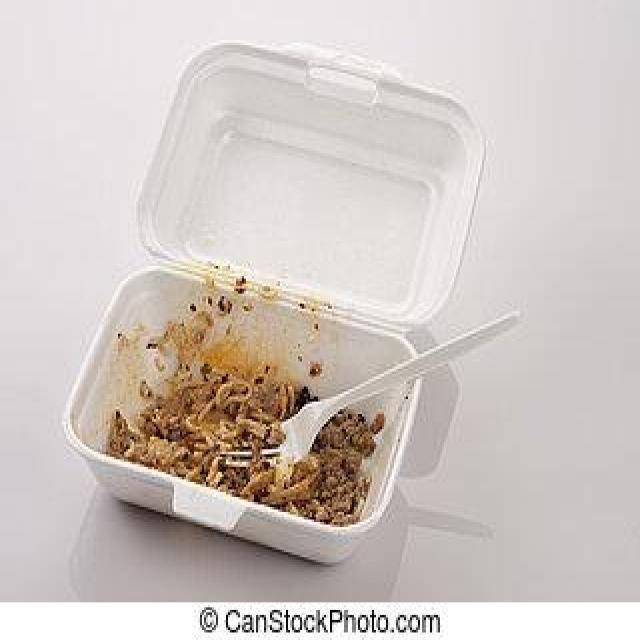styrofoam: (60, 35, 500, 565)
